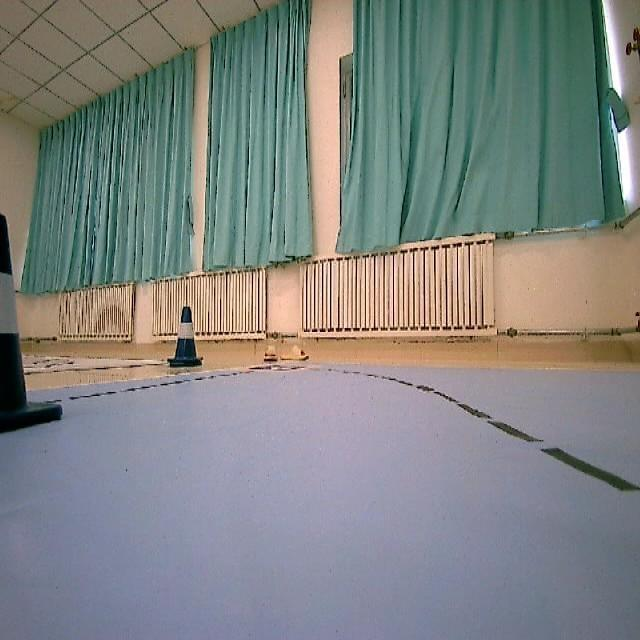obstacle: (170, 300, 207, 372)
